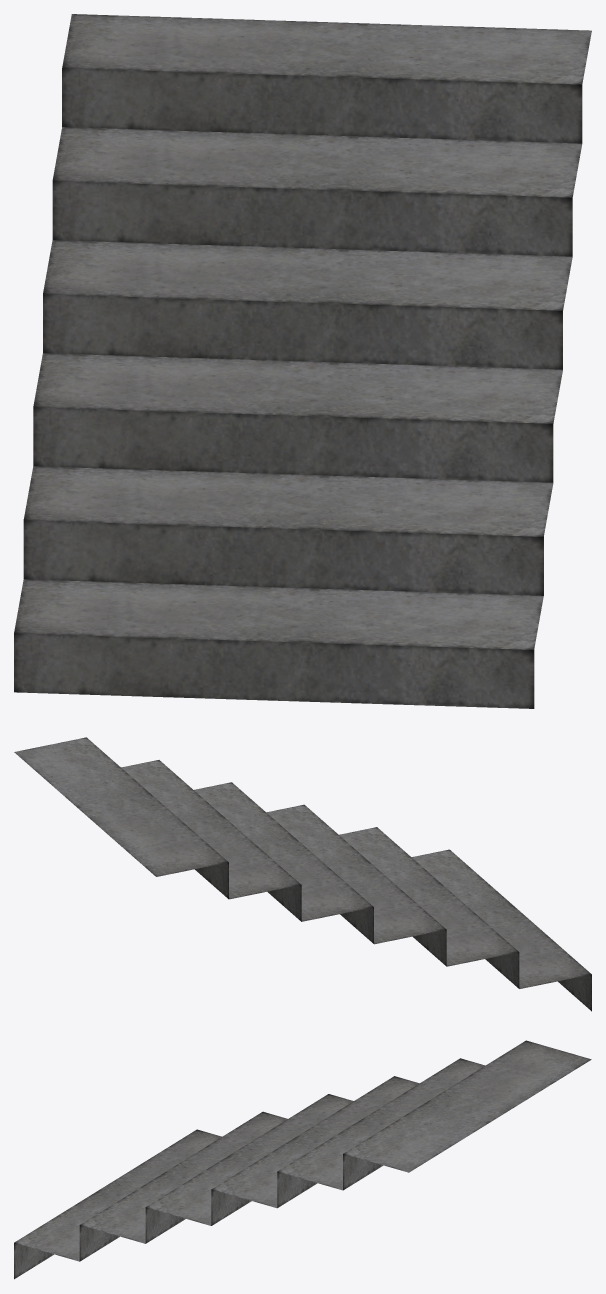
The picture shows the model from 3 angles, top to bottom: view 1: azimuth 30°, elevation 25°; view 2: azimuth 150°, elevation 25°; view 3: azimuth 270°, elevation 25°; orthographic projection. The views are drawn at different scales.
Visible parts, largest first — view 1: Cube.017; view 2: Cube.017; view 3: Cube.017.
Part boxes in pixels (<box>): Cube.017: <box>14,14,591,708</box>; Cube.017: <box>14,737,591,1011</box>; Cube.017: <box>14,1040,591,1279</box>.
Bounding box in the file's own units: 331 × 150 × 356.
